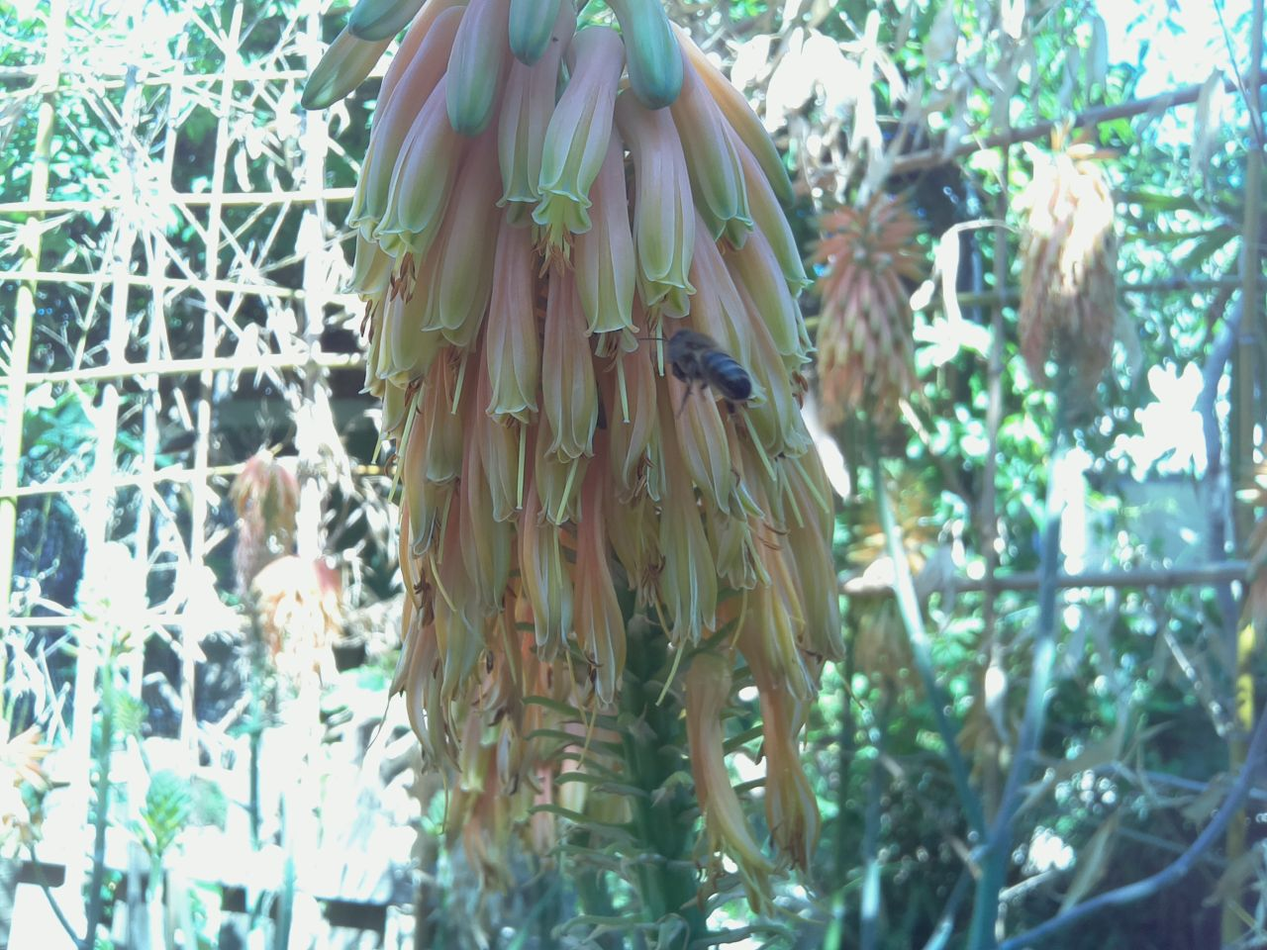Apis mellifera: (636, 312, 769, 429)
